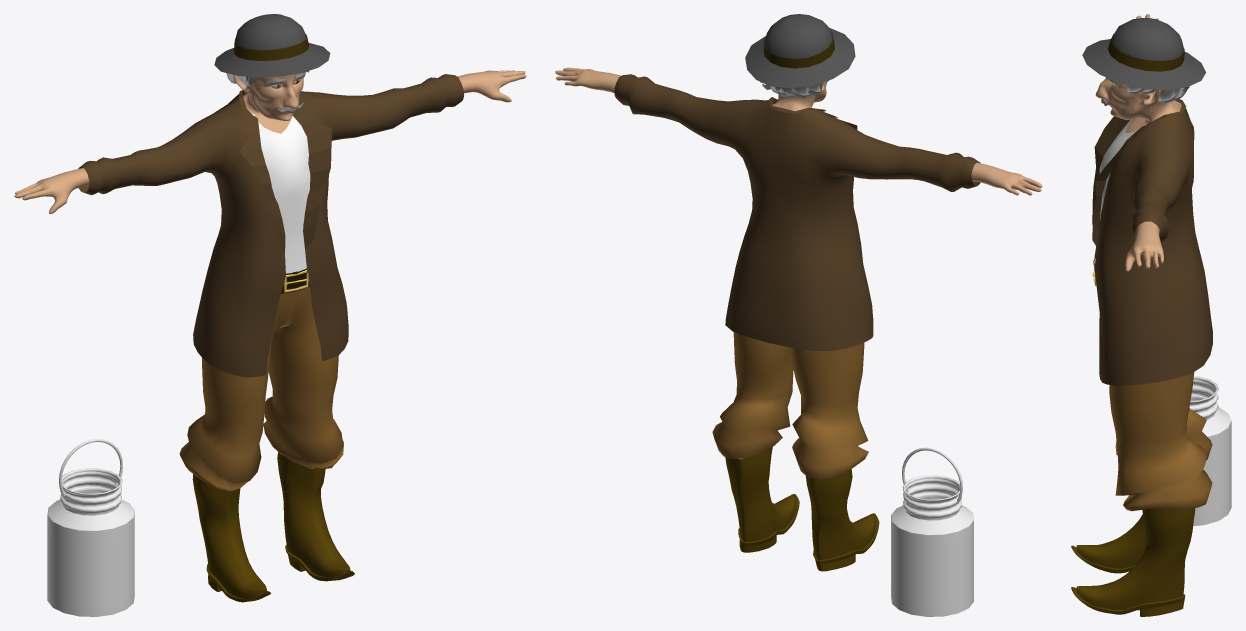
Rendered from ganadero.fbx.
3 views of the same model, side by side, from view 1: azimuth 30°, elevation 25°; view 2: azimuth 150°, elevation 25°; view 3: azimuth 270°, elevation 25° (orthographic). The views are drawn at different scales.
Parts seen in each view (by area): view 1: anciano1, anciano2, pCylinder2, anciano5, anciano, anciano6, pCylinder4, pCylinder5; view 2: anciano1, anciano2, pCylinder2, anciano5, pCylinder4, anciano, pCylinder5; view 3: anciano1, anciano2, anciano5, pCylinder4, pCylinder2, anciano, pCylinder5, anciano6.
Part boxes in pixels (x1=…): anciano1: x1=78, y1=74, x2=463, y2=377; anciano2: x1=179, y1=271, x2=343, y2=492; pCylinder2: x1=47, y1=468, x2=134, y2=616; anciano5: x1=192, y1=452, x2=354, y2=602; anciano: x1=14, y1=70, x2=526, y2=468; anciano6: x1=252, y1=113, x2=310, y2=273; pCylinder4: x1=214, y1=14, x2=330, y2=77; pCylinder5: x1=233, y1=34, x2=308, y2=60; anciano1: x1=614, y1=74, x2=980, y2=350; anciano2: x1=712, y1=332, x2=868, y2=479; pCylinder2: x1=891, y1=475, x2=973, y2=616; anciano5: x1=725, y1=446, x2=879, y2=571; pCylinder4: x1=745, y1=14, x2=855, y2=88; anciano: x1=555, y1=67, x2=1042, y2=459; pCylinder5: x1=763, y1=32, x2=834, y2=68; anciano1: x1=1092, y1=99, x2=1212, y2=385; anciano2: x1=1109, y1=372, x2=1212, y2=511; anciano5: x1=1071, y1=508, x2=1195, y2=616; pCylinder4: x1=1082, y1=17, x2=1205, y2=89; pCylinder2: x1=1189, y1=376, x2=1231, y2=525; anciano: x1=1095, y1=14, x2=1181, y2=610; pCylinder5: x1=1108, y1=34, x2=1184, y2=71; anciano6: x1=1099, y1=119, x2=1137, y2=219.
Size of the model in its own units: 12.37 by 12.92 by 3.32.
